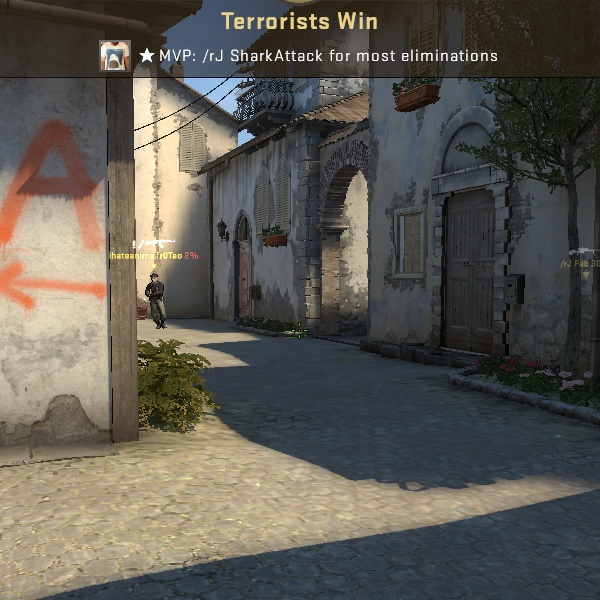t_body: (140, 268, 172, 326)
